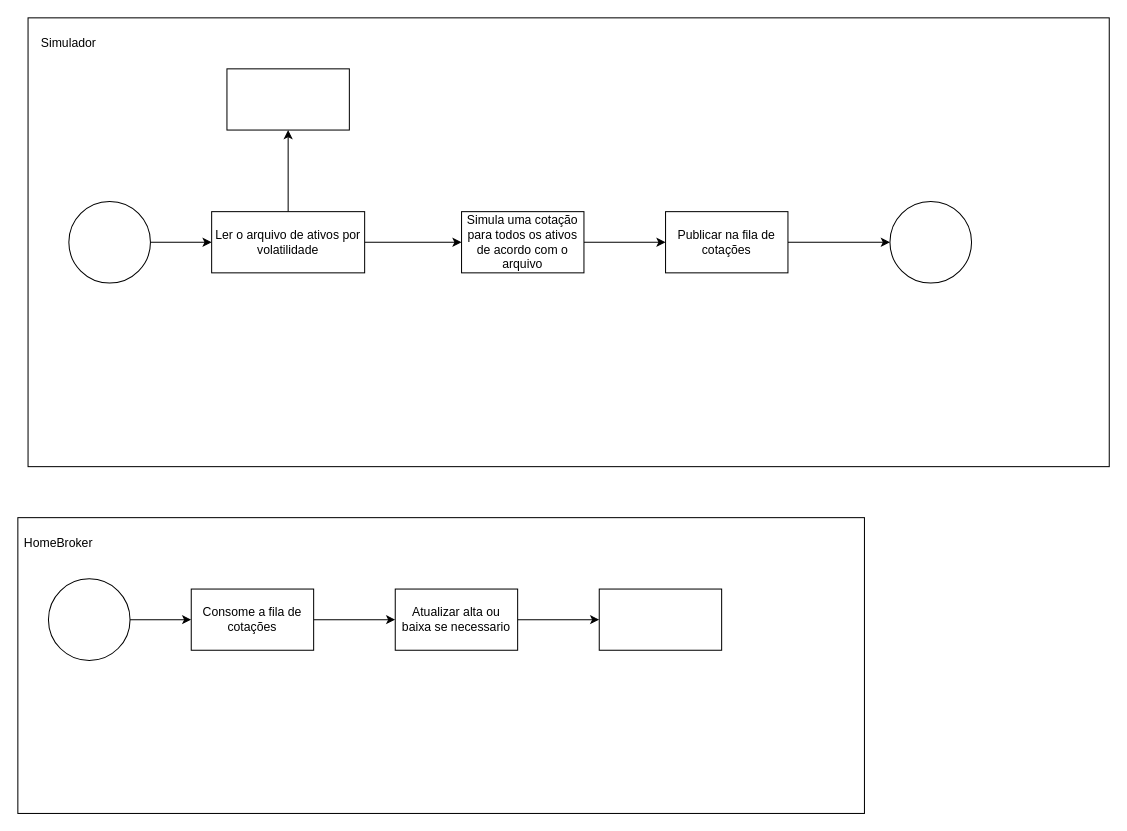
Some shapes in this 1127 by 831 pixel diagram are drawn without their labels. Here are the shapes that lost their labels. From the top down, the centre of each, then its label:
At (287,99): "ABEV3;3;5 PETZ3;5;1 MGLU3;7;0.5".
At (660,619): "Exibe nova cotação".
